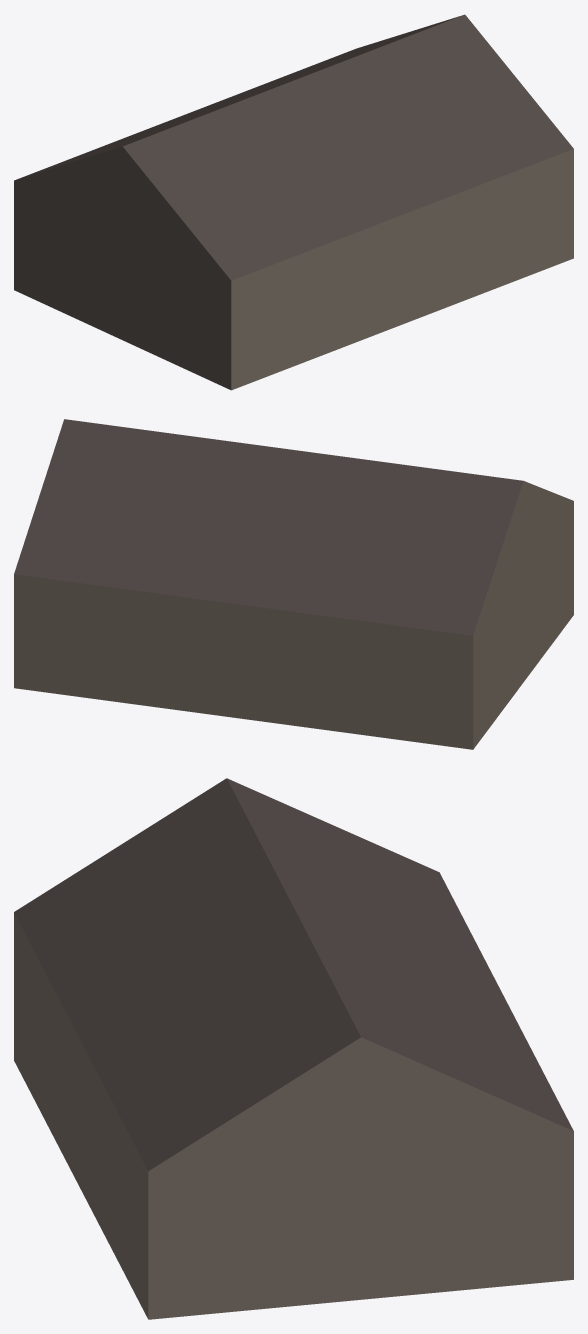
The picture shows the model from 3 angles, top to bottom: view 1: azimuth 30°, elevation 25°; view 2: azimuth 150°, elevation 25°; view 3: azimuth 270°, elevation 25°; orthographic projection. The views are drawn at different scales.
Visible parts, largest first — view 1: HP-w858807482; view 2: HP-w858807482; view 3: HP-w858807482.
Part boxes in pixels (x1,y1,x2,y2): HP-w858807482: [14, 14, 573, 390]; HP-w858807482: [14, 419, 573, 749]; HP-w858807482: [14, 778, 573, 1319].
Bounding box in the file's own units: 12.96 × 5.31 × 10.26.
